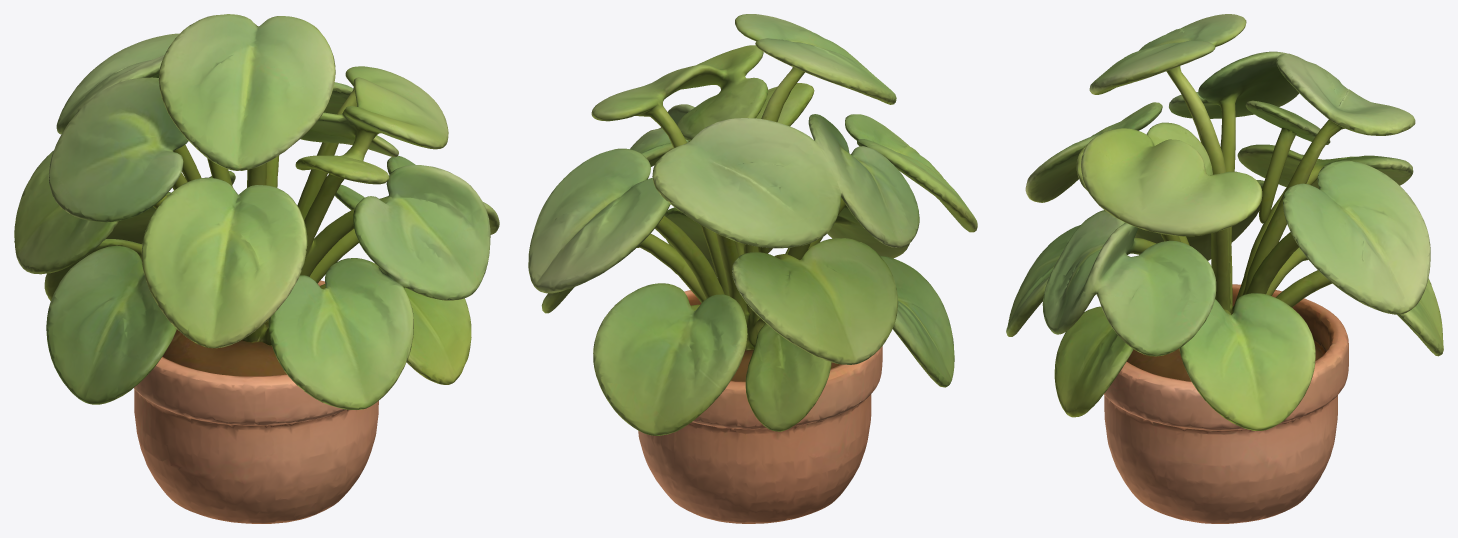
The model's file is plant2-86ff92953b17.glb.
The picture shows the model from 3 angles, left to right: view 1: azimuth 30°, elevation 25°; view 2: azimuth 150°, elevation 25°; view 3: azimuth 270°, elevation 25°; orthographic projection. The views are drawn at different scales.
Parts seen in each view (by area): view 1: tripo_node_d715e2b0-ecc2-44d7-9f0c-660af5bfabee; view 2: tripo_node_d715e2b0-ecc2-44d7-9f0c-660af5bfabee; view 3: tripo_node_d715e2b0-ecc2-44d7-9f0c-660af5bfabee.
Boxes of the visible parts, x1,y1,x2,y2 form: tripo_node_d715e2b0-ecc2-44d7-9f0c-660af5bfabee: [14, 14, 499, 523]; tripo_node_d715e2b0-ecc2-44d7-9f0c-660af5bfabee: [528, 14, 977, 523]; tripo_node_d715e2b0-ecc2-44d7-9f0c-660af5bfabee: [1006, 14, 1443, 523].
Bounding box in the file's own units: 0.8695 × 0.9999 × 0.8708.
1 material, 1 textured.
